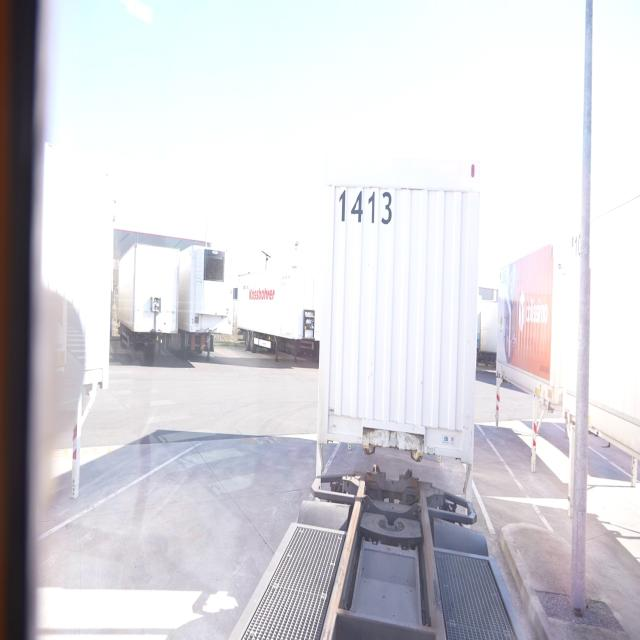Code: (336, 180, 398, 234)
